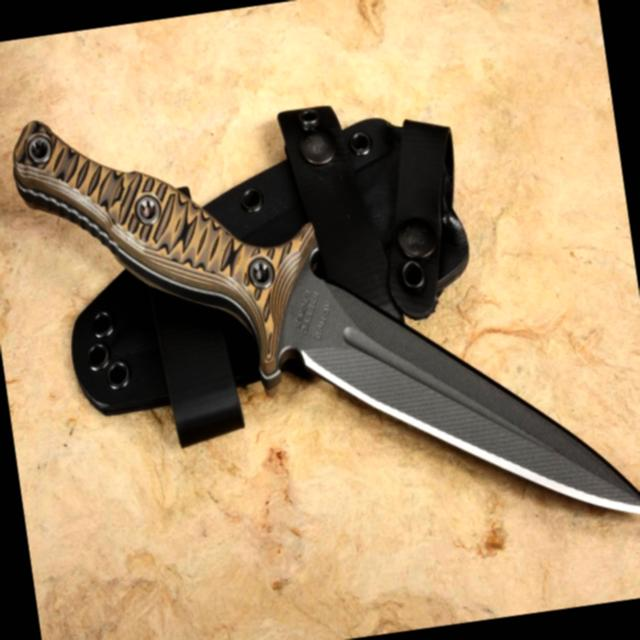short sword: (0, 18, 640, 631)
